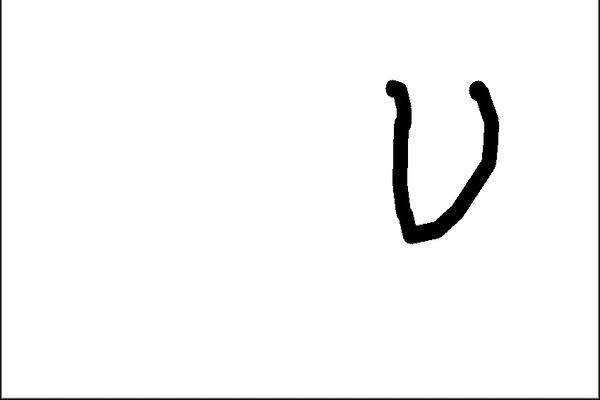U: (377, 71, 499, 250)
